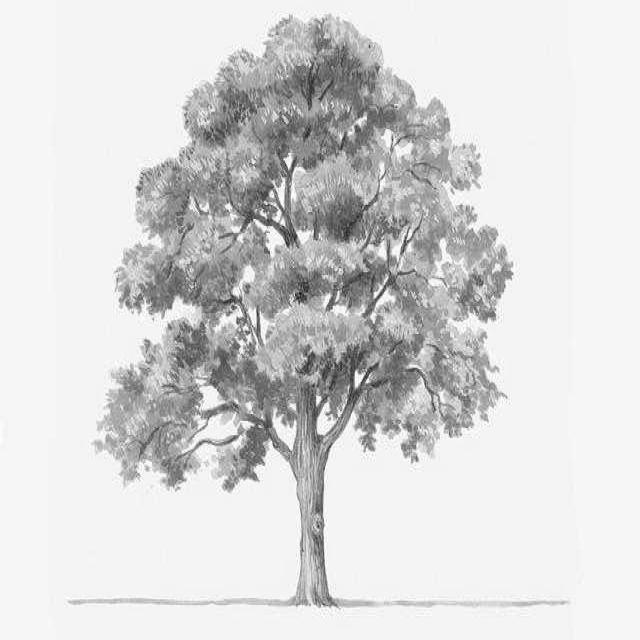Tree: (99, 18, 511, 604)
